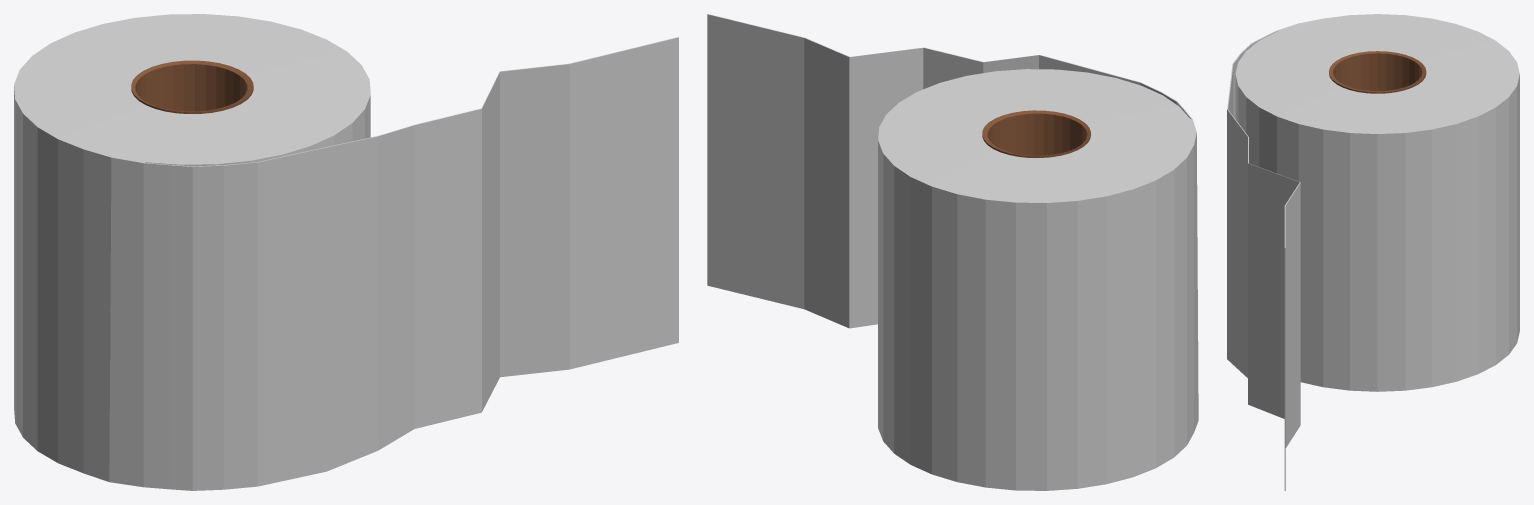
The model's file is toilet_paper(Promoted).fbx.
3 views of the same model, side by side, from view 1: azimuth 30°, elevation 25°; view 2: azimuth 150°, elevation 25°; view 3: azimuth 270°, elevation 25° (orthographic). The views are drawn at different scales.
Visible parts, largest first — view 1: Cylinder, Cylinder.001; view 2: Cylinder, Cylinder.001; view 3: Cylinder, Cylinder.001.
Boxes of the visible parts, x1,y1,x2,y2 form: Cylinder: (14,14,678,490); Cylinder.001: (131,60,253,113); Cylinder: (707,14,1198,490); Cylinder.001: (982,110,1090,157); Cylinder: (1227,14,1519,490); Cylinder.001: (1329,51,1426,93).
Size of the model in its own units: 377 by 204 by 206.
